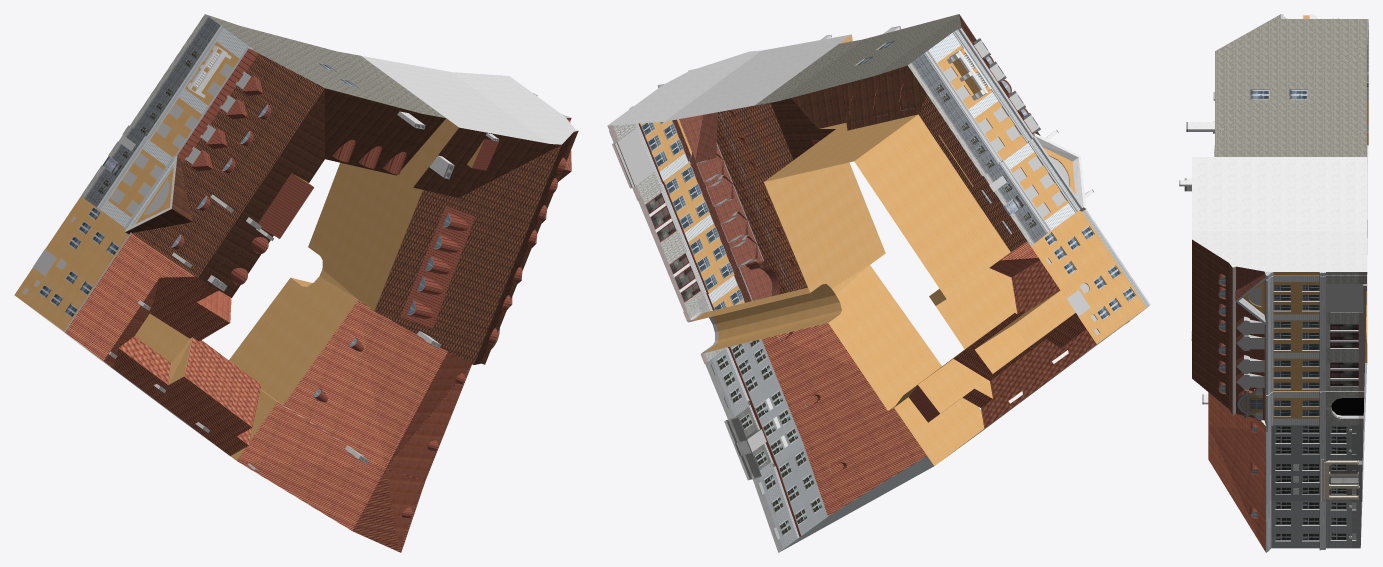
Rendered from Lai_39.obj.
3 renders of one model, left to right at view 1: azimuth 30°, elevation 25°; view 2: azimuth 150°, elevation 25°; view 3: azimuth 270°, elevation 25°, orthographic. The views are drawn at different scales.
Visible parts, largest first — view 1: Lai_39; view 2: Lai_39; view 3: Lai_39.
Part boxes in pixels (x1,y1,x2,y2): Lai_39: [14, 14, 578, 552]; Lai_39: [607, 14, 1150, 552]; Lai_39: [1179, 14, 1368, 552].
Bounding box in the file's own units: 69.79 × 70.94 × 25.56.
